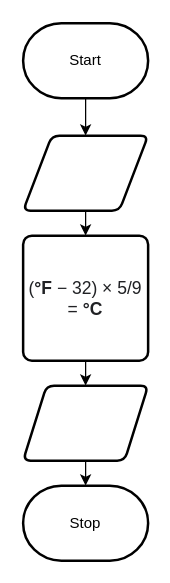
Image size: 170x583. Some labels were removed from this diagram. Each missing label, with the centre of its shape:
"Enter °F" belongs at (x=85, y=172).
"show C" belongs at (x=85, y=422).
